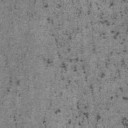oxide scale of temperature system: (44, 0, 128, 101), (54, 102, 101, 126), (6, 76, 21, 98), (12, 114, 21, 126), (120, 116, 128, 128), (42, 116, 46, 124), (91, 48, 96, 52)
